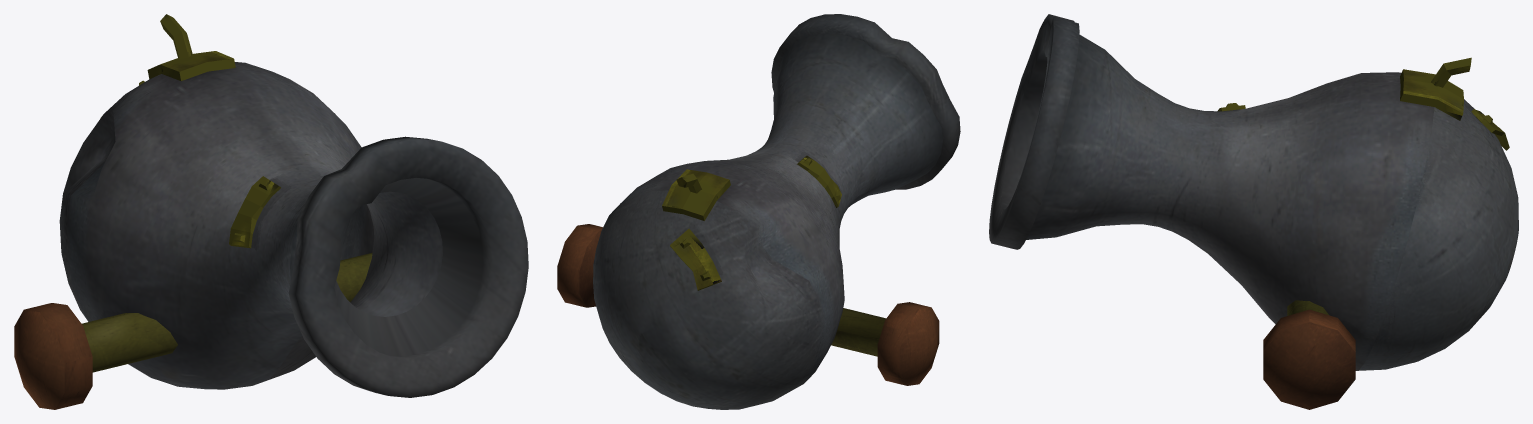
The model's file is CannonV2.fbx.
The picture shows the model from 3 angles, left to right: view 1: azimuth 30°, elevation 25°; view 2: azimuth 150°, elevation 25°; view 3: azimuth 270°, elevation 25°; orthographic projection. The views are drawn at different scales.
Visible parts, largest first — view 1: Cañon; view 2: Cañon; view 3: Cañon.
Boxes of the visible parts, x1,y1,x2,y2 form: Cañon: (14, 14, 528, 409); Cañon: (557, 14, 960, 409); Cañon: (989, 14, 1518, 409).
Bounding box in the file's own units: 240 × 178 × 257.
Materials: 1 (1 with a texture image).
